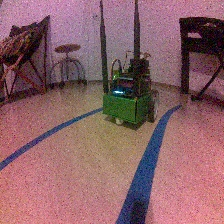rob: (101, 57, 160, 125)
